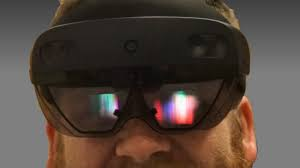hololens: (28, 9, 253, 141)
